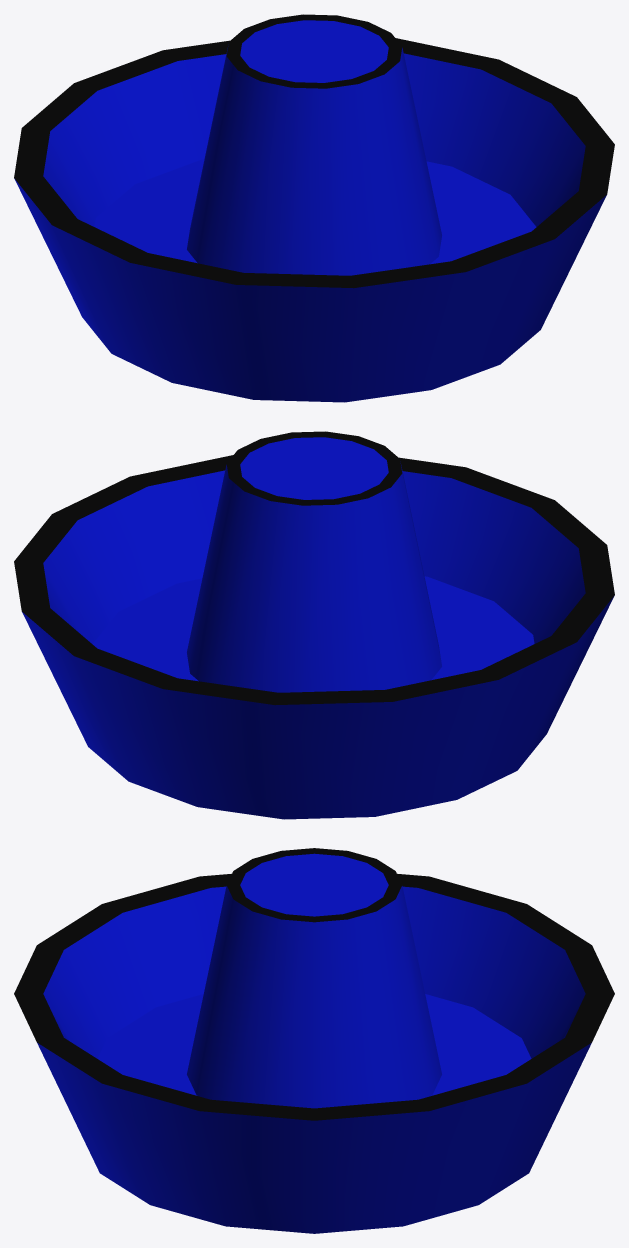
Rendered from Mallet.obj.
3 renders of one model, top to bottom at view 1: azimuth 30°, elevation 25°; view 2: azimuth 150°, elevation 25°; view 3: azimuth 270°, elevation 25°, orthographic.
Parts seen in each view (by area): view 1: Cylinder, Trim; view 2: Cylinder, Trim; view 3: Cylinder, Trim.
Boxes of the visible parts, left/top/right/bottom form: Cylinder: left=14, top=20, right=606, bottom=402; Trim: left=14, top=14, right=614, bottom=288; Cylinder: left=22, top=437, right=614, bottom=819; Trim: left=14, top=431, right=614, bottom=705; Cylinder: left=37, top=853, right=591, bottom=1233; Trim: left=14, top=848, right=614, bottom=1120.
Bounding box in the file's own units: 0.4566 × 0.2101 × 0.4566.
